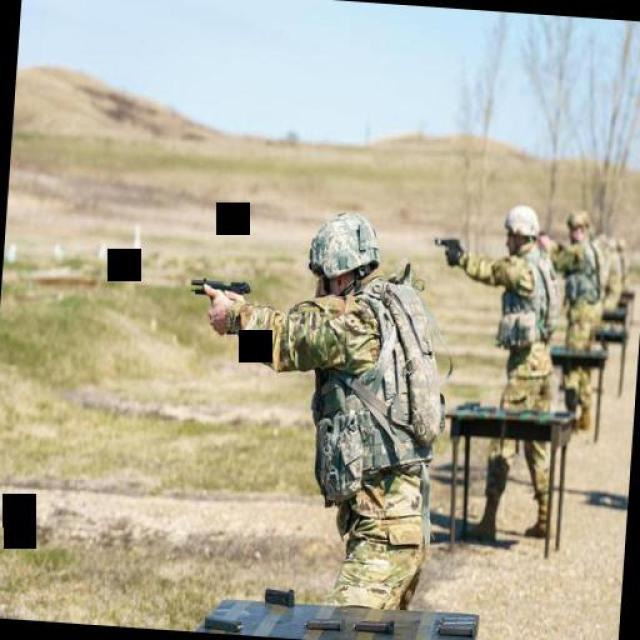gun: (186, 269, 252, 311), (430, 230, 460, 255)
